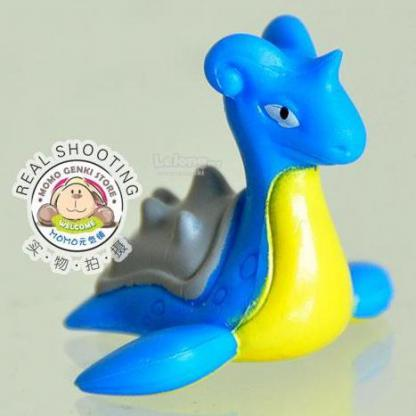Lapras: (48, 30, 413, 410)
